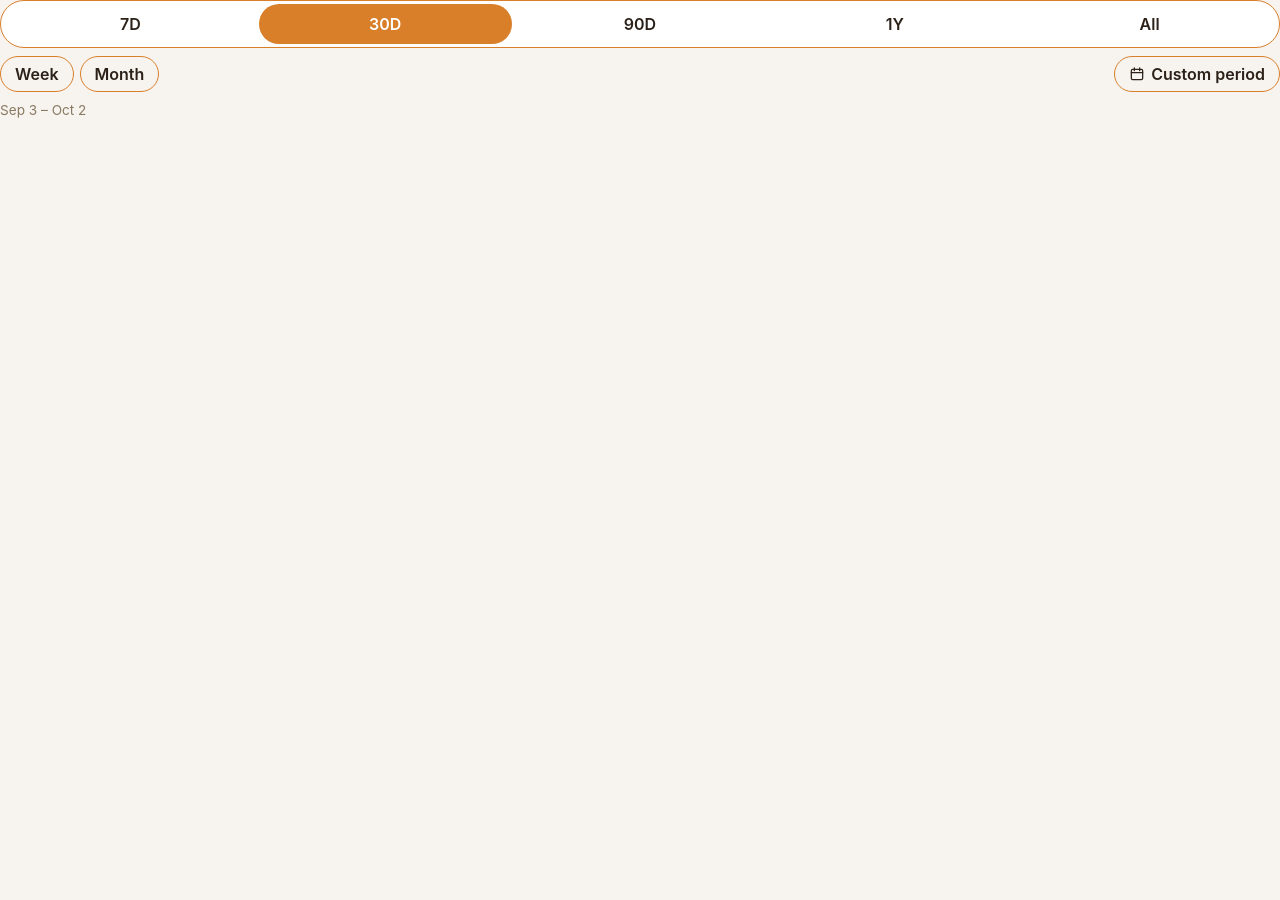
it: PeriodPicker — свой период и сохранённые раньше › «Свой период» открывает календарь; применённый диапазон уходит как custom, окно закрывается
Step 1. Click the button with test id "period-custom" → [1197, 74], box [1114,56,1279,92]
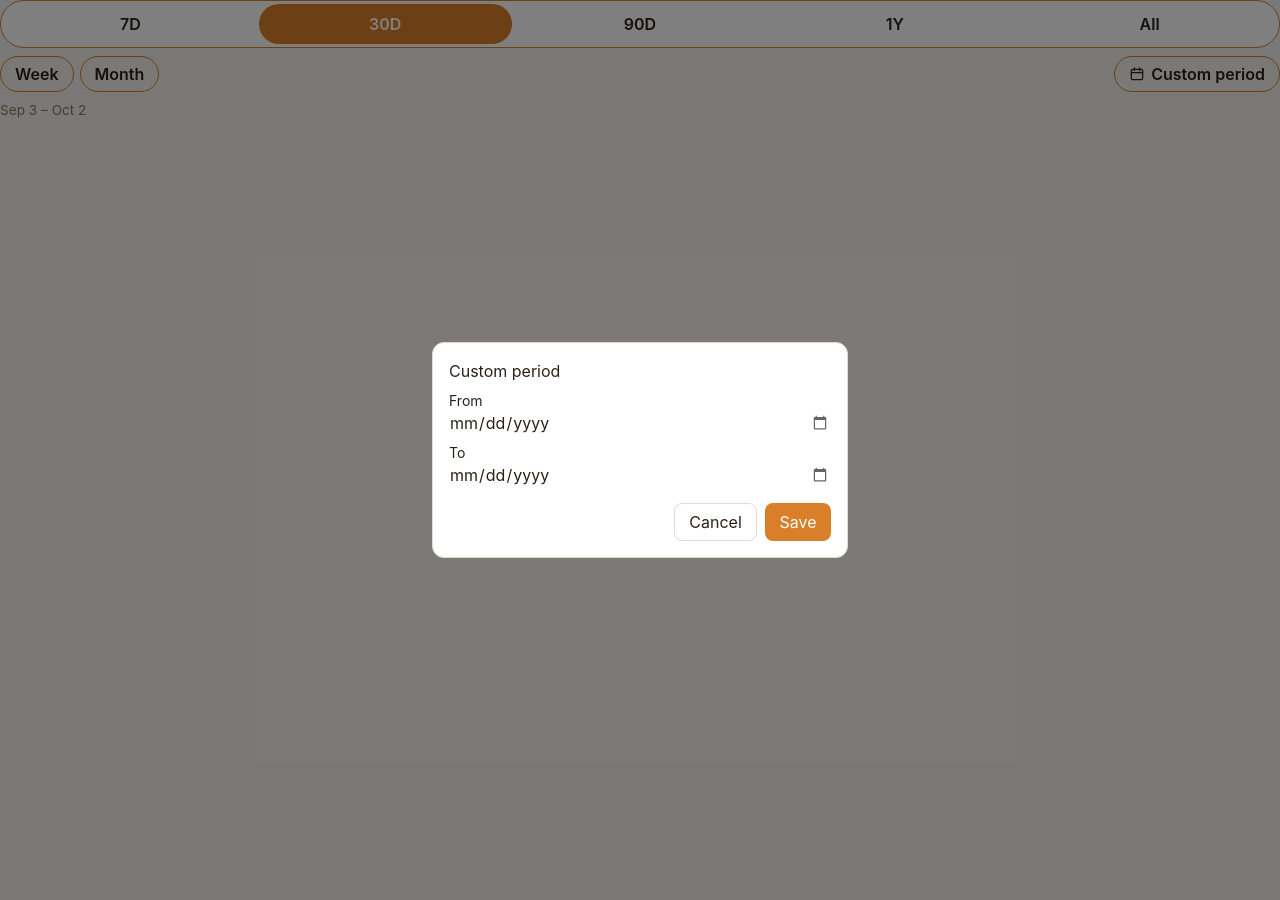
Now the element showing "Custom period From To Cancel Save" is shown
